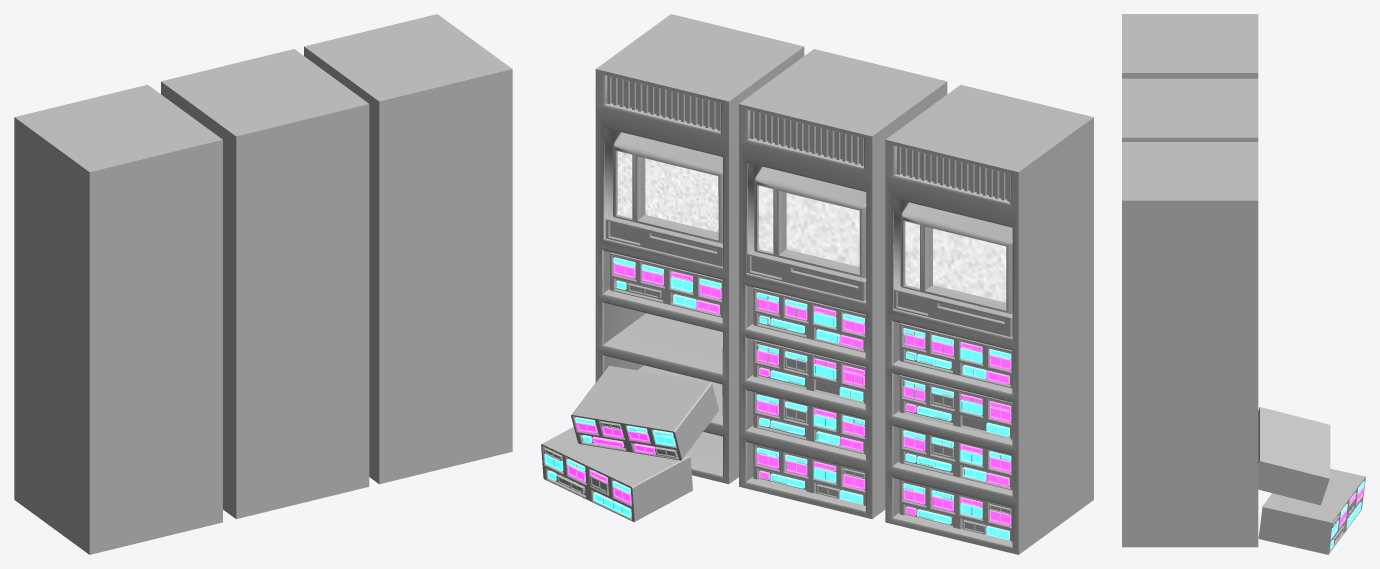
Rendered from servers.fbx.
3 views of the same model, side by side, from view 1: azimuth 30°, elevation 25°; view 2: azimuth 150°, elevation 25°; view 3: azimuth 270°, elevation 25° (orthographic). The views are drawn at different scales.
Visible parts, largest first — view 1: kast.002, kast.001, kast.003; view 2: kast.002, kast.003, kast.001; view 3: kast.003, kast.002, kast.001.
Part boxes in pixels (<box>): kast.002: <box>14,84,222,554</box>; kast.001: <box>161,49,369,519</box>; kast.003: <box>304,14,512,484</box>; kast.002: <box>885,84,1093,554</box>; kast.003: <box>541,14,804,521</box>; kast.001: <box>739,49,947,518</box>; kast.003: <box>1122,142,1365,554</box>; kast.002: <box>1122,14,1258,78</box>; kast.001: <box>1122,78,1258,141</box>.
Bounding box in the file's own units: 284 × 241 × 151.
